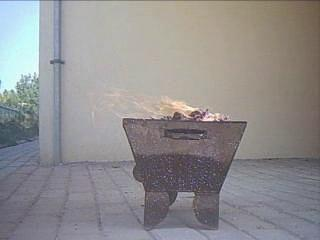fire: (127, 94, 192, 118)
